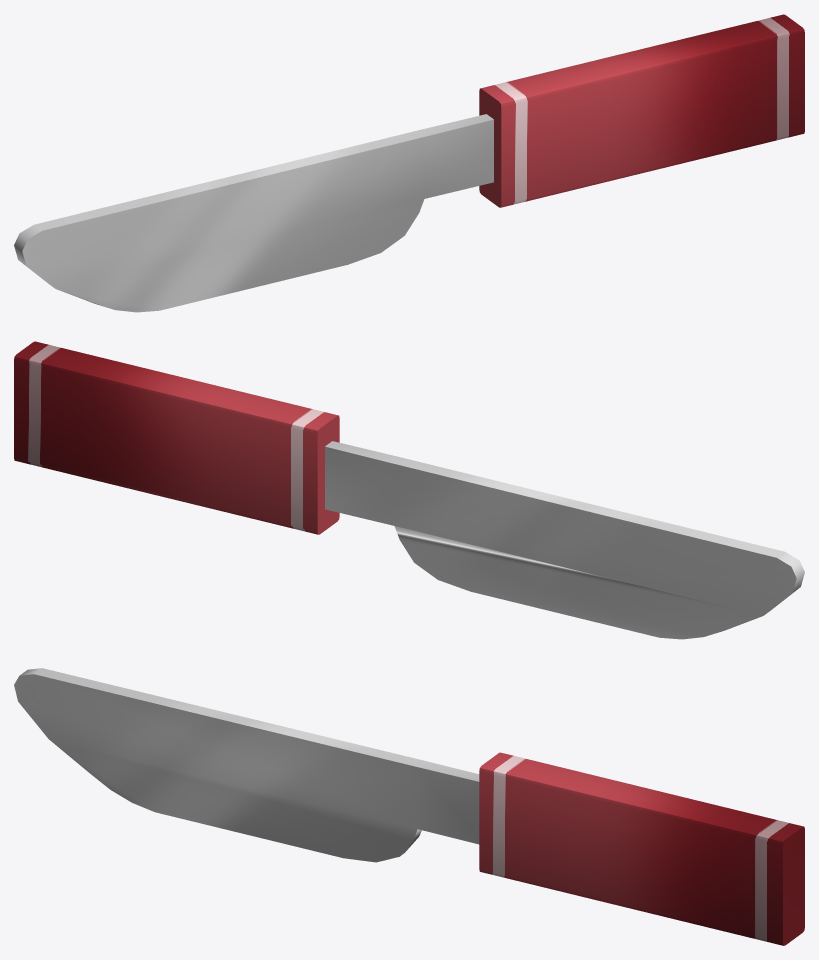
Rendered from knife.FBX.
The picture shows the model from 3 angles, top to bottom: view 1: azimuth 30°, elevation 25°; view 2: azimuth 150°, elevation 25°; view 3: azimuth 330°, elevation 25°; orthographic projection.
Parts seen in each view (by area): view 1: Box001; view 2: Box001; view 3: Box001.
Boxes of the visible parts, <box> form: Box001: <box>14,14,804,312</box>; Box001: <box>14,341,804,639</box>; Box001: <box>14,668,804,945</box>.
Size of the model in its own units: 41.18 by 6.72 by 2.02.
